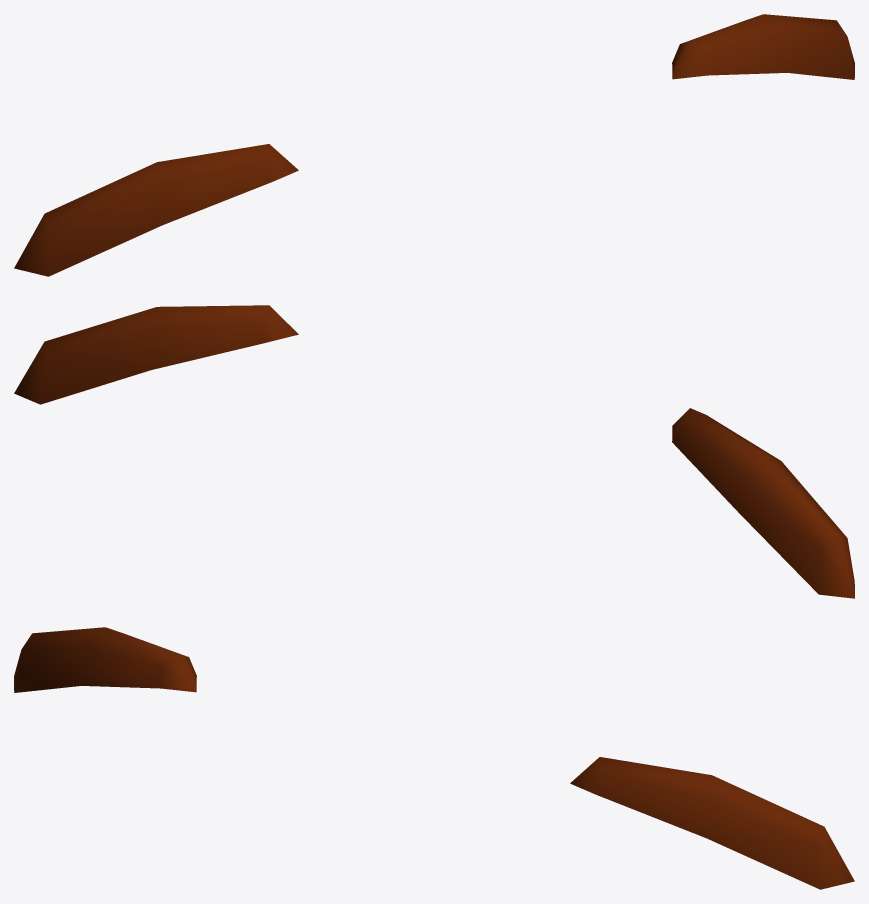
Rendered from Eyes 03.FBX.
3 renders of one model, top to bottom at view 1: azimuth 30°, elevation 25°; view 2: azimuth 150°, elevation 25°; view 3: azimuth 330°, elevation 25°, orthographic.
Parts seen in each view (by area): view 1: Eyes 03; view 2: Eyes 03; view 3: Eyes 03.
Part boxes in pixels (box(x1,y1,x2,y2)): Eyes 03: box(14, 14, 854, 276); Eyes 03: box(14, 305, 854, 598); Eyes 03: box(14, 627, 854, 889).
Bounding box in the file's own units: 19.2 × 2.42 × 2.32.
1 material, 1 textured.
